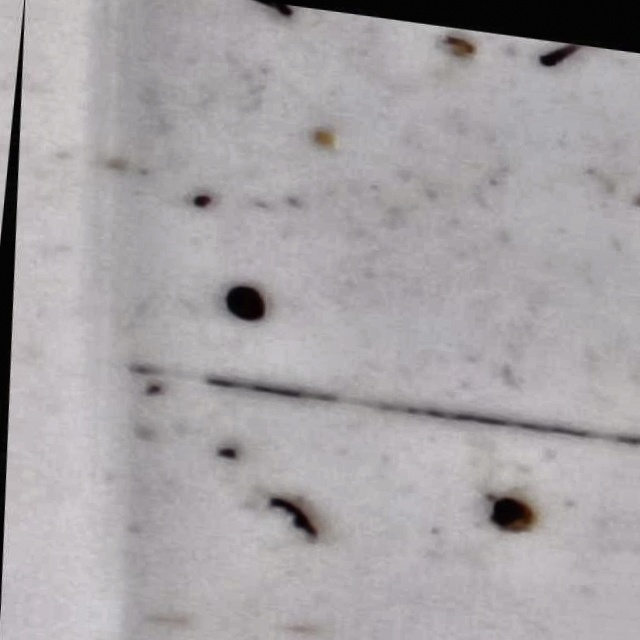varroa: (217, 277, 270, 322), (486, 488, 537, 529)
